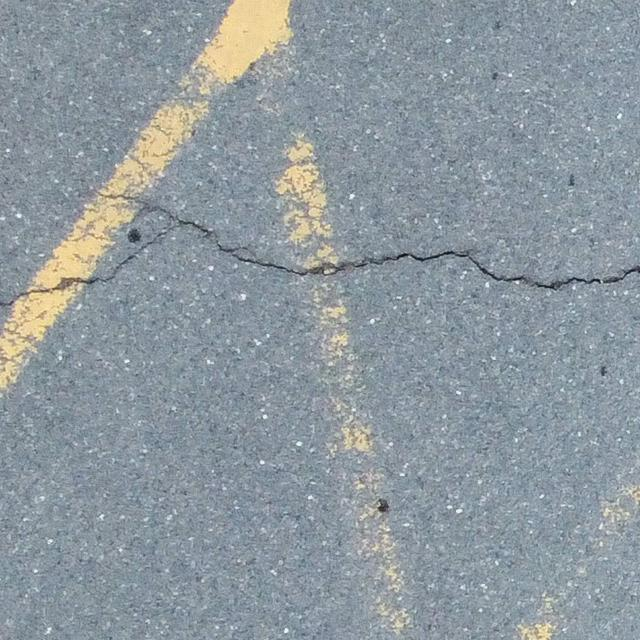TransverseCrack: (1, 193, 640, 307)
